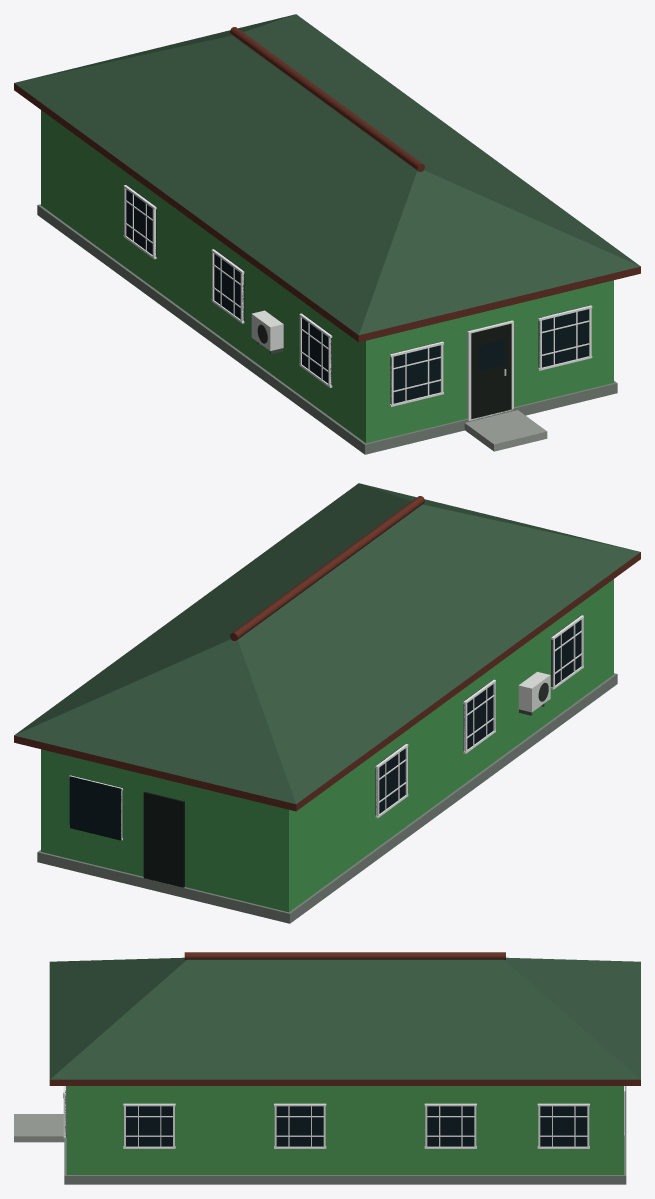
The model's file is mis_rafis_building.glb.
The picture shows the model from 3 angles, top to bottom: view 1: azimuth 30°, elevation 25°; view 2: azimuth 150°, elevation 25°; view 3: azimuth 270°, elevation 25°; orthographic projection. The views are drawn at different scales.
Visible parts, largest first — view 1: MIS_Roof, MIS_Main_Walls, Mesh_MIS_Glass_Tint, Mesh_MIS_Fascia_Brown, MIS_Foundation_Plinth, Mesh_MIS_Frame_White, Mesh_MIS_Door_Dark, MIS_Entrance_Step, MIS_AC_Body; view 2: MIS_Roof, MIS_Main_Walls, MIS_Foundation_Plinth, Mesh_MIS_Fascia_Brown, Mesh_MIS_Glass_Tint, Mesh_MIS_Door_Dark, Mesh_MIS_Frame_White, MIS_AC_Body; view 3: MIS_Roof, MIS_Main_Walls, Mesh_MIS_Glass_Tint, Mesh_MIS_Fascia_Brown, MIS_Foundation_Plinth, Mesh_MIS_Frame_White, MIS_Entrance_Step.
Part boxes in pixels (x1,y1,x2,y2): MIS_Roof: [14, 14, 640, 335]; MIS_Main_Walls: [41, 110, 613, 443]; Mesh_MIS_Glass_Tint: [126, 185, 589, 403]; Mesh_MIS_Fascia_Brown: [14, 27, 640, 342]; MIS_Foundation_Plinth: [37, 204, 617, 454]; Mesh_MIS_Frame_White: [123, 185, 592, 420]; Mesh_MIS_Door_Dark: [471, 323, 511, 418]; MIS_Entrance_Step: [464, 410, 547, 451]; MIS_AC_Body: [251, 310, 283, 351]; MIS_Roof: [14, 483, 640, 804]; MIS_Main_Walls: [41, 579, 613, 912]; MIS_Foundation_Plinth: [37, 673, 617, 923]; Mesh_MIS_Fascia_Brown: [14, 496, 640, 811]; Mesh_MIS_Glass_Tint: [69, 615, 581, 840]; Mesh_MIS_Door_Dark: [143, 792, 184, 887]; Mesh_MIS_Frame_White: [69, 615, 583, 840]; MIS_AC_Body: [518, 671, 550, 712]; MIS_Roof: [49, 957, 640, 1079]; MIS_Main_Walls: [66, 1086, 623, 1174]; Mesh_MIS_Glass_Tint: [65, 1086, 625, 1146]; Mesh_MIS_Fascia_Brown: [49, 952, 640, 1085]; MIS_Foundation_Plinth: [64, 1086, 626, 1184]; Mesh_MIS_Frame_White: [63, 1086, 625, 1148]; MIS_Entrance_Step: [14, 1114, 64, 1142].
Bounding box in the file's own units: 7.42 × 5.24 × 16.65.
